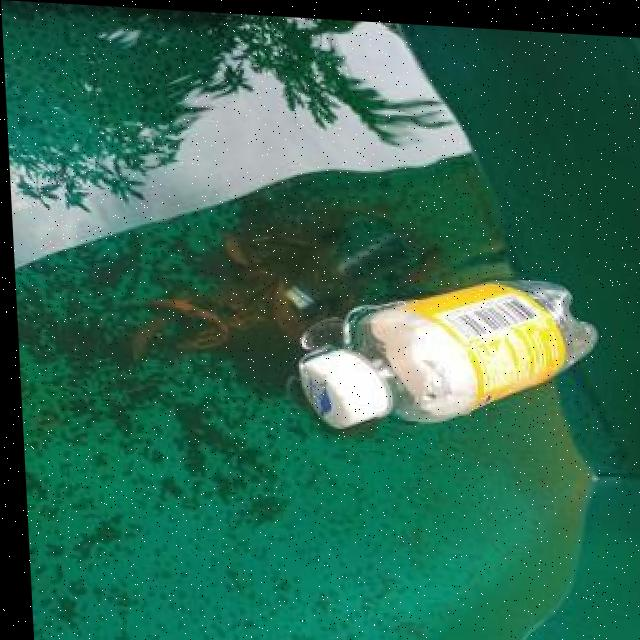bottle: (285, 261, 604, 439)
